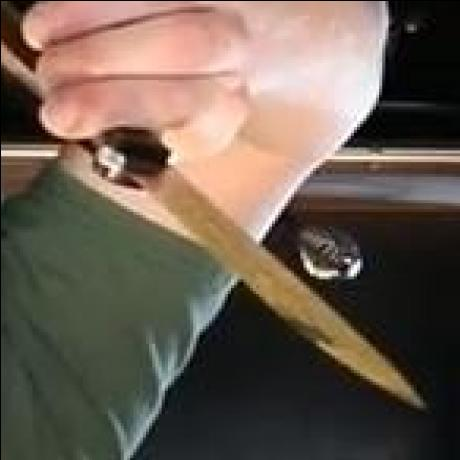1: (0, 0, 387, 460)
weapon: (95, 140, 439, 414)
